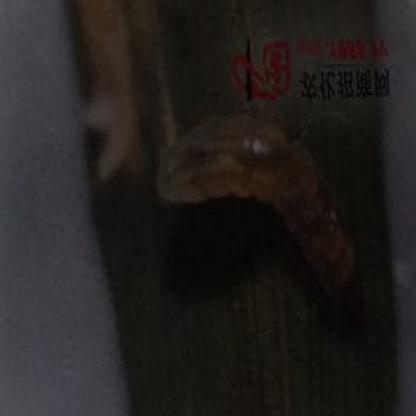whorl-maggot: (155, 112, 359, 308)
